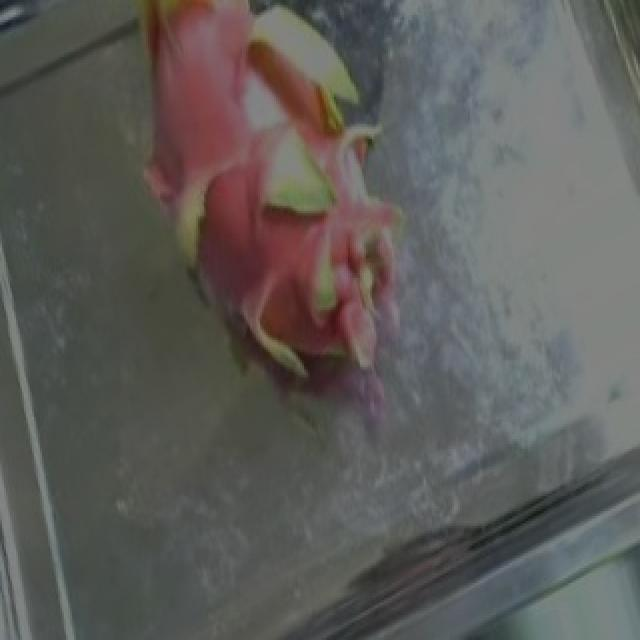fruit: (42, 0, 462, 419)
